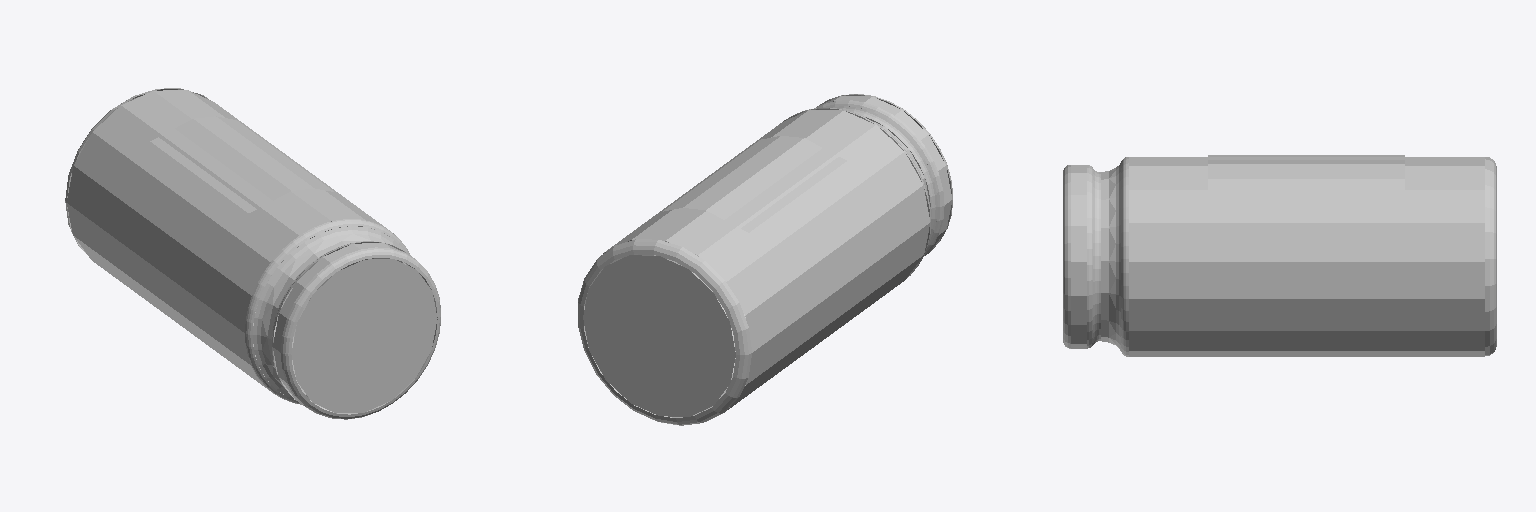
The picture shows the model from 3 angles: view 1: azimuth 30°, elevation 25°; view 2: azimuth 150°, elevation 25°; view 3: azimuth 270°, elevation 25°; orthographic projection.
Visible parts, largest first — view 1: ShapeIndexedFaceSet.005_ShapeIndexedFaceSet, ShapeIndexedFaceSet.001_ShapeIndexedFaceSet.002, ShapeIndexedFaceSet.002_ShapeIndexedFaceSet.003, ShapeIndexedFaceSet_ShapeIndexedFaceSet.001, ShapeIndexedFaceSet.004_ShapeIndexedFaceSet.005; view 2: ShapeIndexedFaceSet.005_ShapeIndexedFaceSet, ShapeIndexedFaceSet.003_ShapeIndexedFaceSet.004, ShapeIndexedFaceSet_ShapeIndexedFaceSet.001, ShapeIndexedFaceSet.004_ShapeIndexedFaceSet.005, ShapeIndexedFaceSet.002_ShapeIndexedFaceSet.003; view 3: ShapeIndexedFaceSet.005_ShapeIndexedFaceSet, ShapeIndexedFaceSet.002_ShapeIndexedFaceSet.003, ShapeIndexedFaceSet_ShapeIndexedFaceSet.001, ShapeIndexedFaceSet.004_ShapeIndexedFaceSet.005.
Boxes of the visible parts, x1=… form: ShapeIndexedFaceSet.005_ShapeIndexedFaceSet: x1=67, y1=90, x2=402, y2=399; ShapeIndexedFaceSet.001_ShapeIndexedFaceSet.002: x1=291, y1=259, x2=437, y2=413; ShapeIndexedFaceSet.002_ShapeIndexedFaceSet.003: x1=245, y1=219, x2=440, y2=419; ShapeIndexedFaceSet_ShapeIndexedFaceSet.001: x1=150, y1=116, x2=333, y2=212; ShapeIndexedFaceSet.004_ShapeIndexedFaceSet.005: x1=65, y1=88, x2=210, y2=252; ShapeIndexedFaceSet.005_ShapeIndexedFaceSet: x1=584, y1=109, x2=929, y2=417; ShapeIndexedFaceSet.003_ShapeIndexedFaceSet.004: x1=583, y1=255, x2=735, y2=416; ShapeIndexedFaceSet_ShapeIndexedFaceSet.001: x1=663, y1=136, x2=846, y2=232; ShapeIndexedFaceSet.004_ShapeIndexedFaceSet.005: x1=578, y1=239, x2=751, y2=425; ShapeIndexedFaceSet.002_ShapeIndexedFaceSet.003: x1=783, y1=94, x2=952, y2=277; ShapeIndexedFaceSet.005_ShapeIndexedFaceSet: x1=1129, y1=157, x2=1484, y2=356; ShapeIndexedFaceSet.002_ShapeIndexedFaceSet.003: x1=1063, y1=157, x2=1128, y2=356; ShapeIndexedFaceSet_ShapeIndexedFaceSet.001: x1=1208, y1=155, x2=1404, y2=197; ShapeIndexedFaceSet.004_ShapeIndexedFaceSet.005: x1=1485, y1=157, x2=1496, y2=355.
Size of the model in its own units: 5.08 by 5.12 by 11.